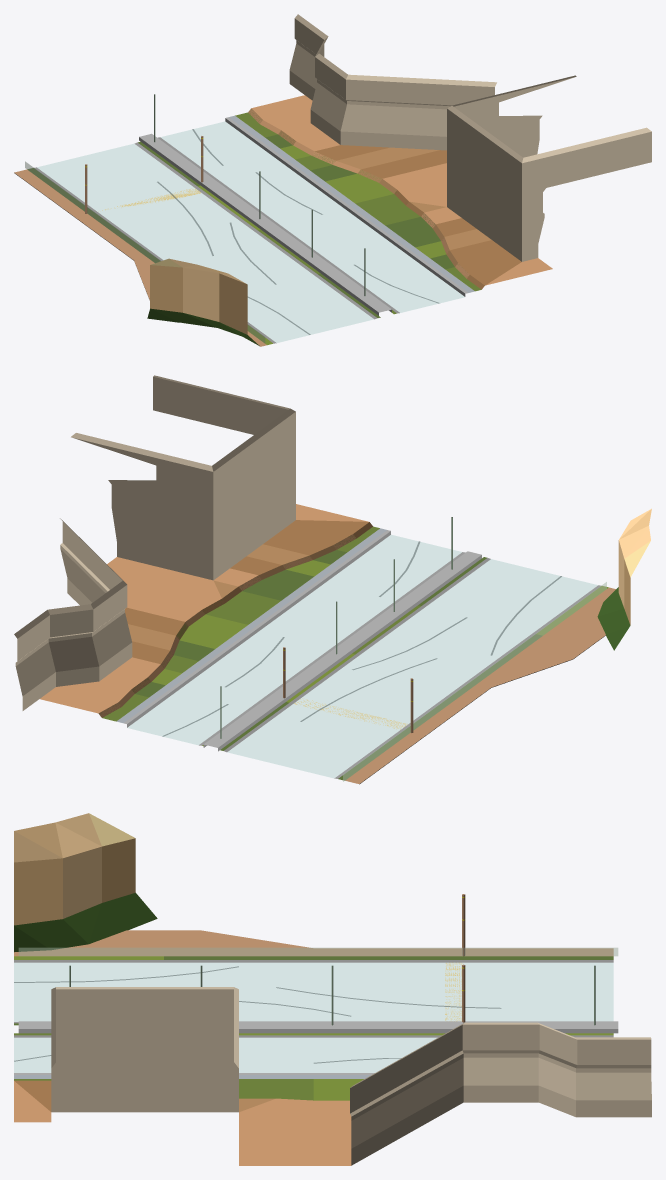
The picture shows the model from 3 angles, top to bottom: view 1: azimuth 30°, elevation 25°; view 2: azimuth 150°, elevation 25°; view 3: azimuth 270°, elevation 25°; orthographic projection. The views are drawn at different scales.
Parts seen in each view (by area): view 1: O25947; view 2: O25947; view 3: O25947.
Part boxes in pixels (x1,y1,x2,y2): O25947: (14, 14, 651, 346); O25947: (14, 375, 651, 784); O25947: (14, 813, 651, 1165).
Bounding box in the file's own units: 144 × 32 × 136.
